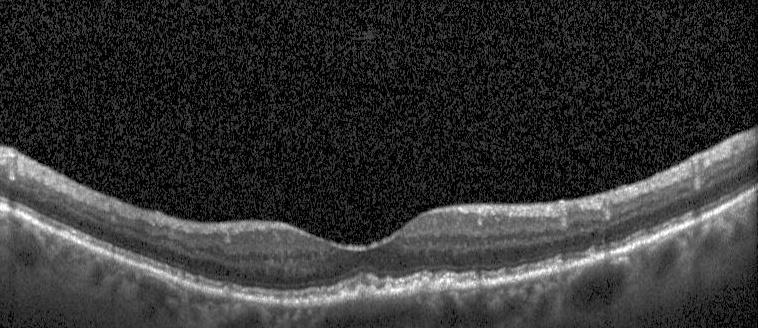retinal_drusen: (437, 278, 458, 291), (357, 286, 369, 300), (554, 260, 568, 272), (591, 250, 606, 261), (502, 272, 514, 285), (420, 279, 429, 292), (568, 259, 578, 269), (474, 278, 485, 287), (384, 282, 391, 295), (342, 293, 353, 301), (413, 282, 421, 293), (223, 286, 231, 297), (368, 287, 375, 298)
